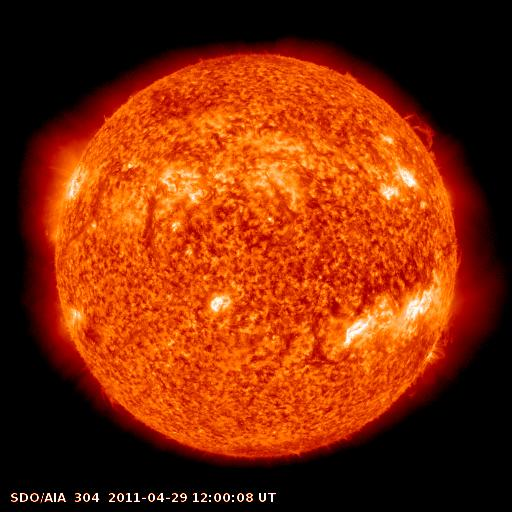prominence: (395, 100, 443, 161), (446, 239, 469, 274)
